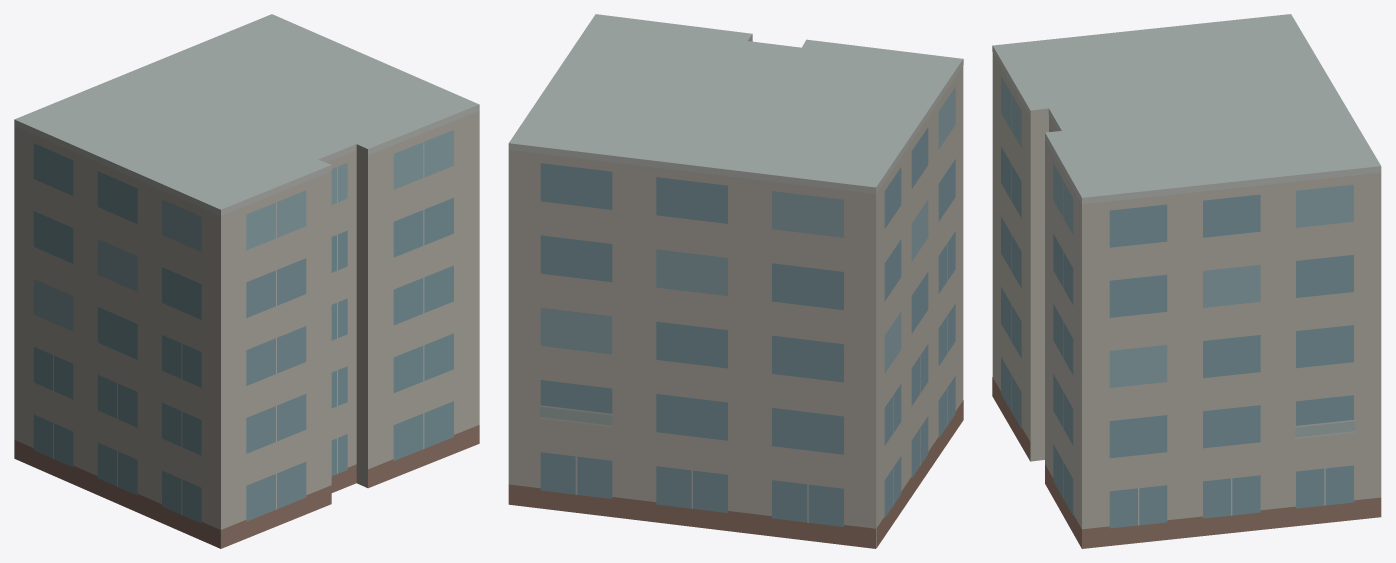
File: survey-upis-32703850.glb
3 renders of one model, left to right at view 1: azimuth 30°, elevation 25°; view 2: azimuth 150°, elevation 25°; view 3: azimuth 270°, elevation 25°, orthographic. The views are drawn at different scales.
Visible parts, largest first — view 1: survey-upis-32703850.tmp; view 2: survey-upis-32703850.tmp; view 3: survey-upis-32703850.tmp.
Part boxes in pixels (left/top/right/bottom): survey-upis-32703850.tmp: left=14, top=14, right=479, bottom=548; survey-upis-32703850.tmp: left=508, top=14, right=963, bottom=548; survey-upis-32703850.tmp: left=992, top=14, right=1381, bottom=548.
Bounding box in the file's own units: 15.01 × 13.35 × 13.41.
